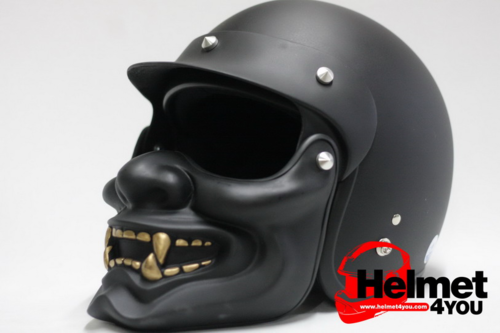with_helmet: (85, 1, 459, 333)
